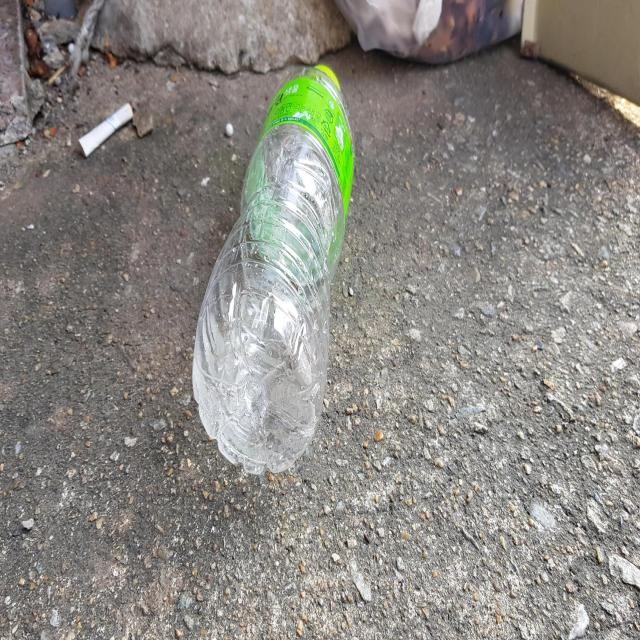plastic: (192, 64, 354, 474)
